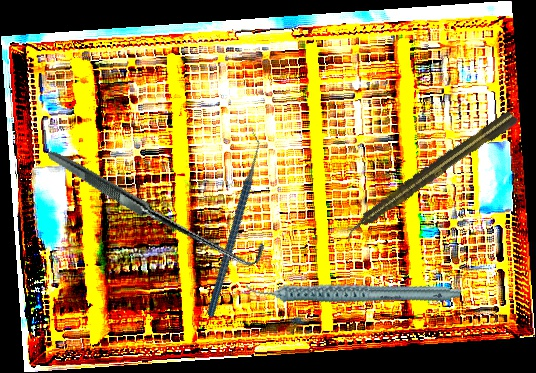Chopper: (149, 128, 315, 318)
Handpiece: (338, 106, 521, 244), (244, 236, 462, 344)
Hook Surgical: (47, 92, 269, 319)
